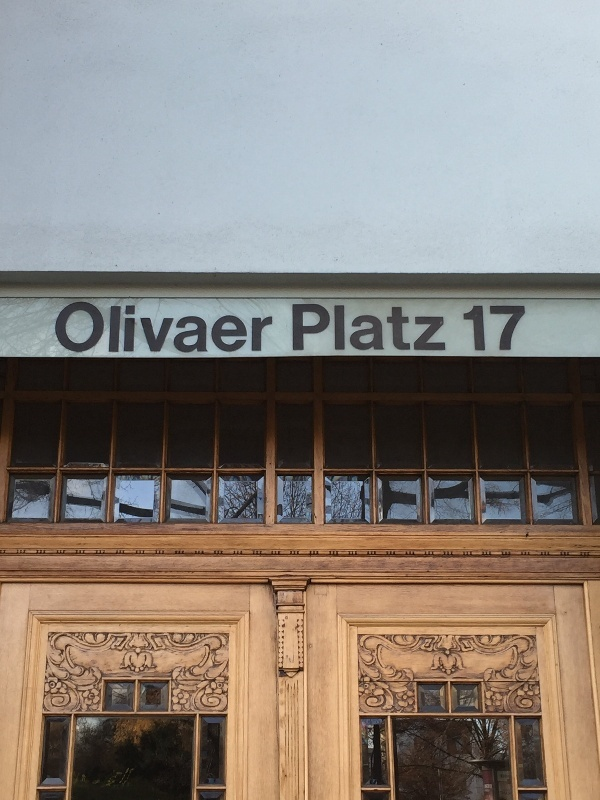text: (65, 299, 80, 356), (81, 299, 96, 356), (97, 299, 112, 356), (113, 299, 128, 356), (129, 299, 144, 356), (145, 299, 160, 356), (161, 299, 176, 356), (177, 299, 192, 356), (193, 299, 208, 356), (209, 299, 224, 356), (225, 299, 240, 356), (241, 299, 256, 356), (257, 299, 272, 356), (305, 303, 320, 354), (321, 303, 336, 354), (337, 303, 352, 354), (353, 303, 368, 354), (369, 303, 384, 354), (385, 303, 400, 354), (401, 303, 416, 354), (417, 303, 432, 354), (465, 305, 480, 353), (481, 305, 496, 353), (497, 305, 512, 353), (433, 303, 447, 354), (513, 305, 526, 353), (292, 303, 304, 354), (55, 299, 64, 356), (273, 299, 275, 356), (463, 305, 464, 353)
